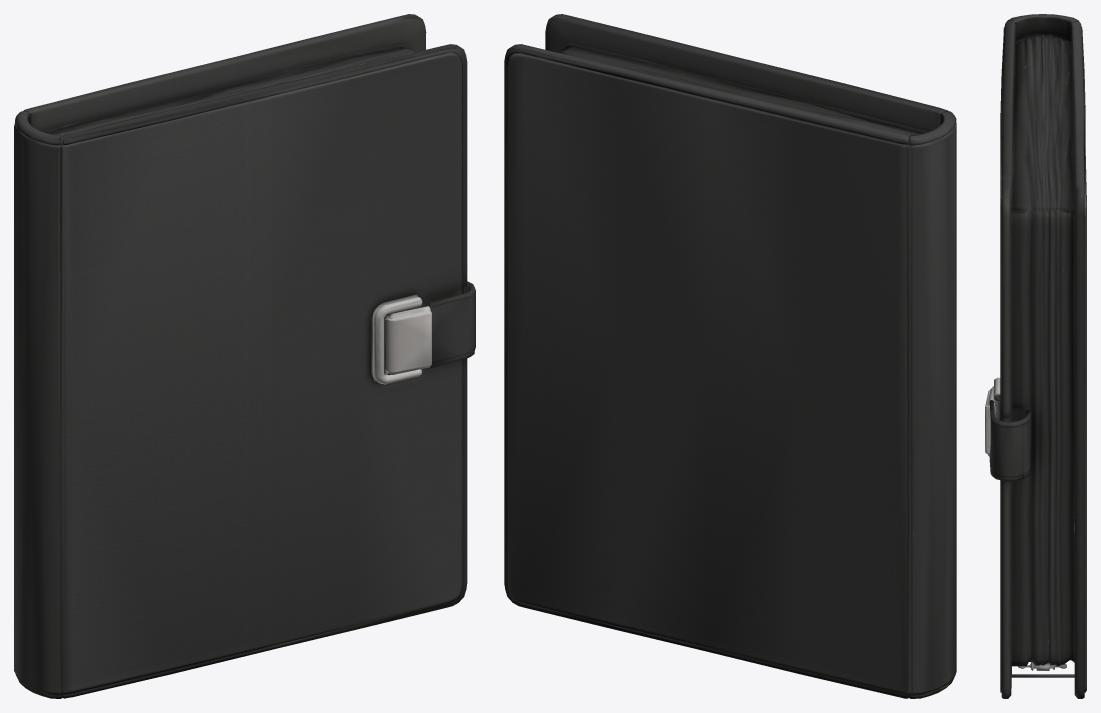
The model's file is PRP_FileBinder_A.fbx.
3 renders of one model, left to right at view 1: azimuth 30°, elevation 25°; view 2: azimuth 150°, elevation 25°; view 3: azimuth 270°, elevation 25°, orthographic. The views are drawn at different scales.
Visible parts, largest first — view 1: tripo_node_a45a1205-8507-455e-816a-5d31ed8997f3; view 2: tripo_node_a45a1205-8507-455e-816a-5d31ed8997f3; view 3: tripo_node_a45a1205-8507-455e-816a-5d31ed8997f3.
Boxes of the visible parts, x1,y1,x2,y2 form: tripo_node_a45a1205-8507-455e-816a-5d31ed8997f3: (14, 14, 475, 698); tripo_node_a45a1205-8507-455e-816a-5d31ed8997f3: (504, 14, 956, 698); tripo_node_a45a1205-8507-455e-816a-5d31ed8997f3: (985, 14, 1086, 698).
Bounding box in the file's own units: 80.27 × 99.8 × 18.16.
1 material, 1 textured.
